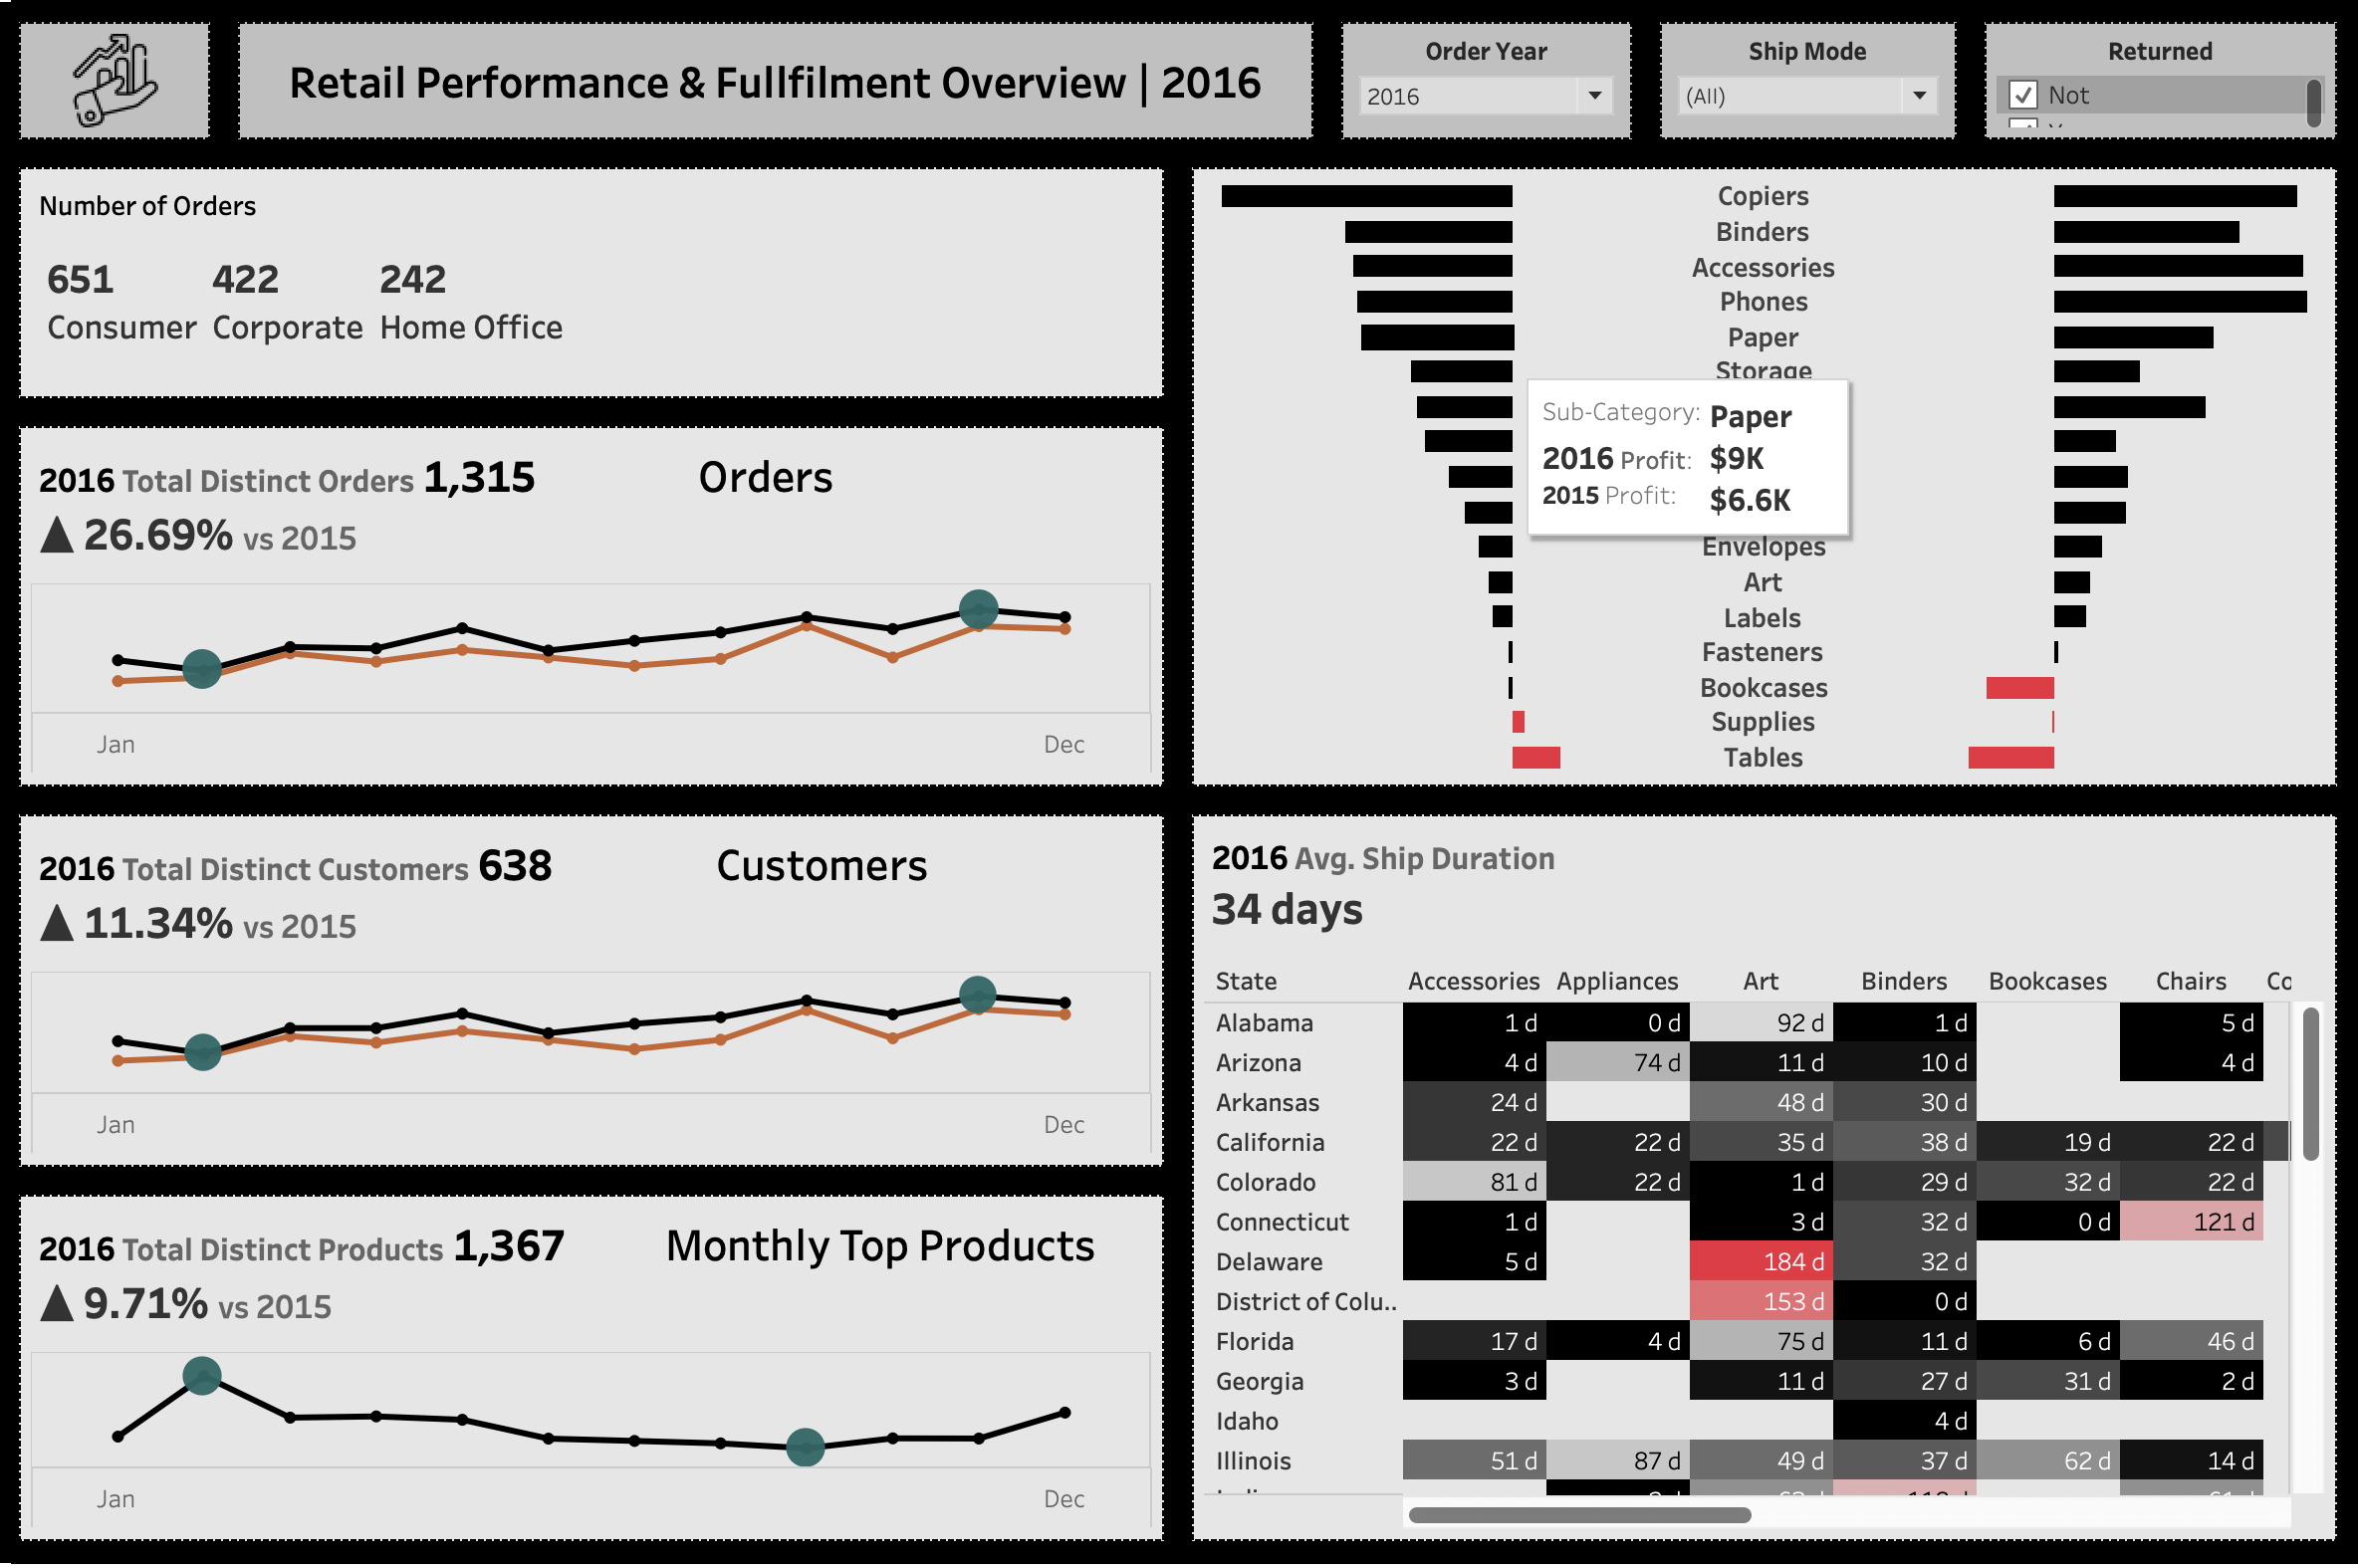

Layout of this report page (visuals, bound fields, positions):
{"tool":"tableau","page":{"name":"Supply Chain Overview","canvas":[1200,800],"ordinal":0},"visuals":[{"type":"dashboard-object","box":[11,11,110,73]},{"type":"text","box":[121,11,554,73]},{"type":"parameter","param":"[Parameters].[Parameter 2]","box":[675,11,160,73]},{"type":"filter","title":"Avg Shipping Duration","param":"[federated.1r2zmz30o6xx7a1brqhdf0vvpog4].[none:Ship Mode:nk]","box":[835,11,163,73]},{"type":"filter","title":"KPI Orders","param":"[federated.1r2zmz30o6xx7a1brqhdf0vvpog4].[none:Returned:nk]","box":[998,11,191,73]},{"type":"worksheet","title":"Orders Bans","mark":"Text","box":[11,84,589,130]},{"type":"worksheet","title":"Profit by Category","mark":"Automatic","rows":["Sub-Category"],"cols":["Calculation_0097814033584133","Calculation_0097814033539076","Calculation_0097814030692352"],"box":[600,84,589,324.9]},{"type":"worksheet","title":"KPI Orders","mark":"Line","rows":["Max/Min Customers (copy)_0068890684571650"],"cols":["Order Date"],"box":[11,214,589,195]},{"type":"worksheet","title":"Avg Shipping Duration","mark":"Square","rows":["State"],"cols":["Sub-Category"],"box":[600,408.9,589,379]},{"type":"worksheet","title":"KPI Customers","mark":"Line","rows":["Max/Min Monthly Product Sales (copy)_0068890680115201"],"cols":["Order Date"],"box":[11,409,589,191]},{"type":"worksheet","title":"KPI Products","mark":"Line","rows":["Calculation_0098095706906630","Calculation_0068890676686848"],"cols":["Order Date"],"box":[11,600,589,188]}]}

Visuals, with their boxes in screenshot pixels (x1, y1, x2, y2), scaled from the page's 1200x800 canvas onto the 2358x1568 screenshot:
dashboard-object: [22, 22, 238, 164]
text: [238, 22, 1326, 164]
parameter: [1326, 22, 1641, 164]
"Avg Shipping Duration" filter: [1641, 22, 1961, 164]
"KPI Orders" filter: [1961, 22, 2336, 164]
"Orders Bans" worksheet (Text marks): [22, 164, 1179, 419]
"Profit by Category" worksheet: [1179, 164, 2336, 801]
"KPI Orders" worksheet (Line marks): [22, 419, 1179, 801]
"Avg Shipping Duration" worksheet (Square marks): [1179, 801, 2336, 1544]
"KPI Customers" worksheet (Line marks): [22, 801, 1179, 1176]
"KPI Products" worksheet (Line marks): [22, 1176, 1179, 1544]
